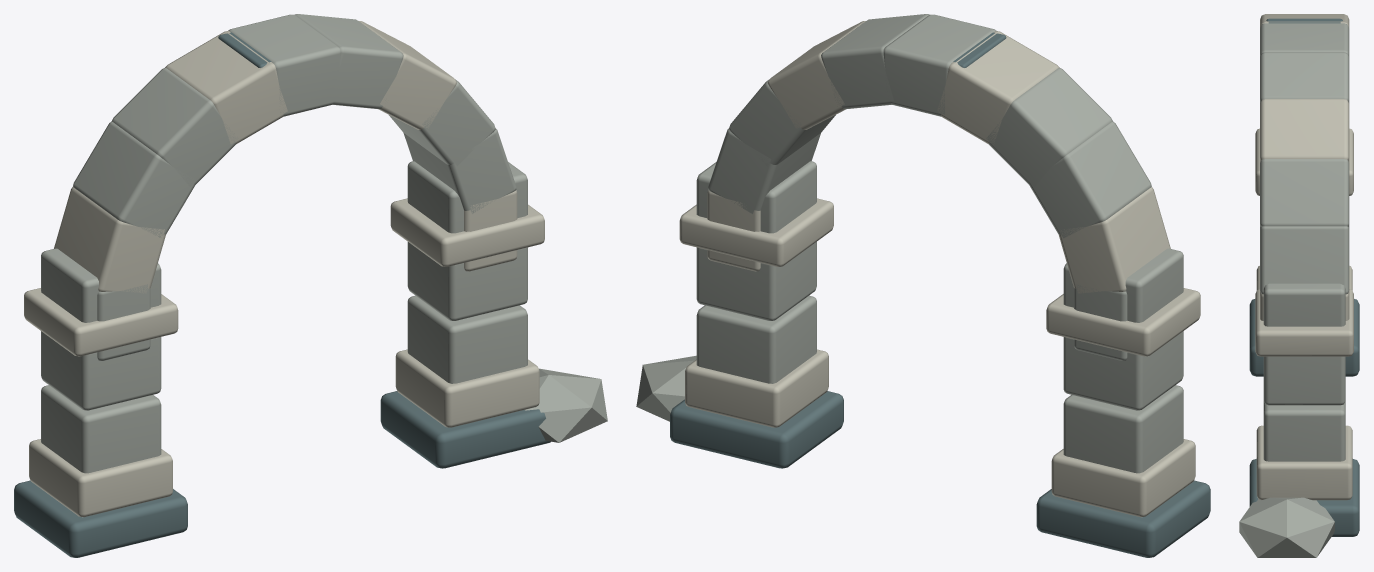
File: SM_RuinArch_Broken_01.fbx
3 renders of one model, left to right at view 1: azimuth 30°, elevation 25°; view 2: azimuth 150°, elevation 25°; view 3: azimuth 270°, elevation 25°, orthographic. The views are drawn at different scales.
Visible parts, largest first — view 1: SM_RuinArch_Broken_01; view 2: SM_RuinArch_Broken_01; view 3: SM_RuinArch_Broken_01.
Boxes of the visible parts, box(x1,y1,x2,y2) form: SM_RuinArch_Broken_01: box(14, 14, 607, 557); SM_RuinArch_Broken_01: box(636, 14, 1210, 557); SM_RuinArch_Broken_01: box(1239, 14, 1359, 557).
Size of the model in its own units: 4.86 by 3.83 by 1.03.
